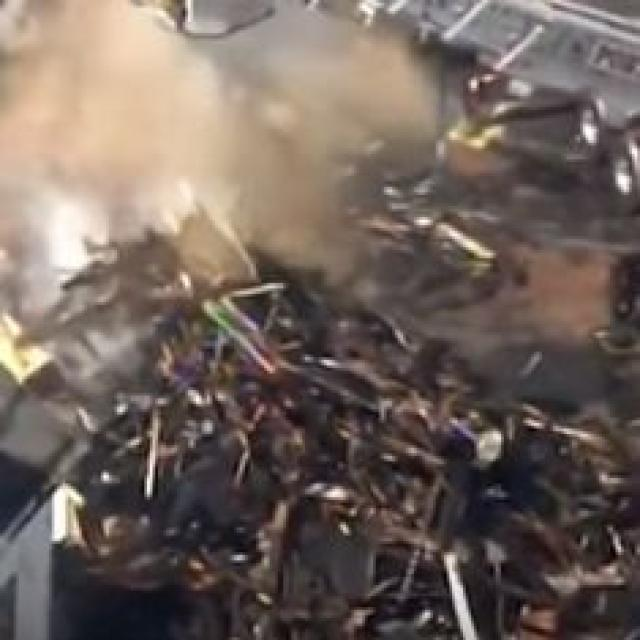collapsed_building: (57, 247, 632, 637)
